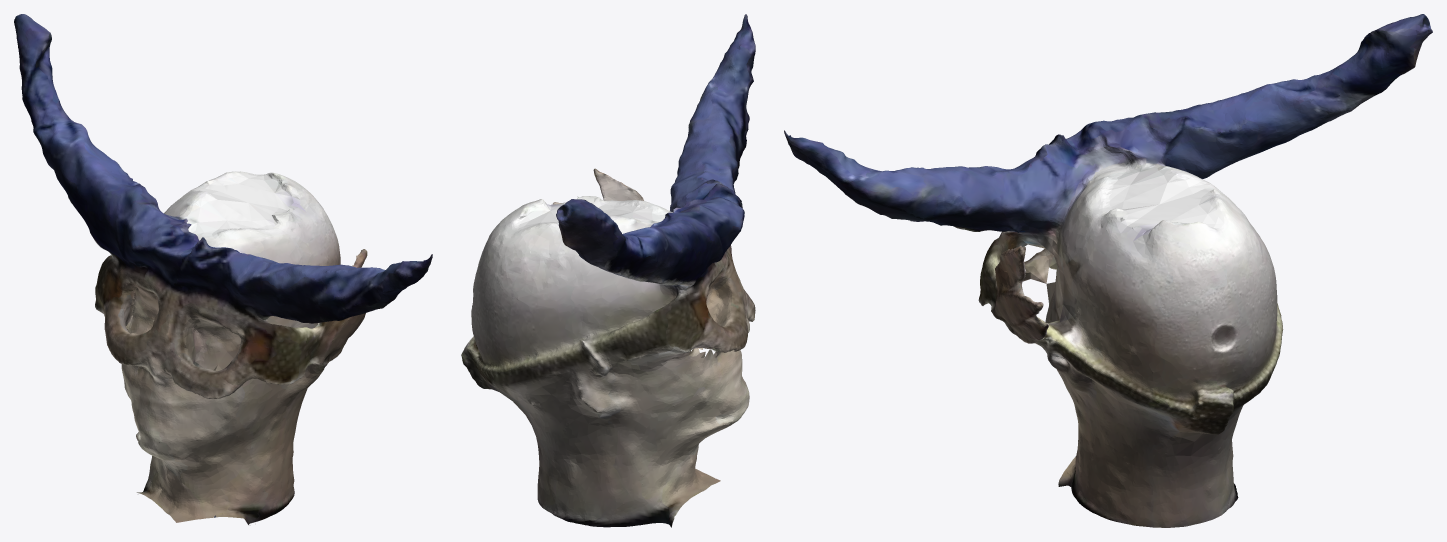
The model's file is Seung_Jeon.glb.
3 renders of one model, left to right at view 1: azimuth 30°, elevation 25°; view 2: azimuth 150°, elevation 25°; view 3: azimuth 270°, elevation 25°, orthographic. The views are drawn at different scales.
Visible parts, largest first — view 1: mesh.005; view 2: mesh.005; view 3: mesh.005.
Part boxes in pixels (x1,y1,x2,y2): mesh.005: (14, 14, 432, 524); mesh.005: (461, 14, 755, 527); mesh.005: (784, 14, 1432, 527).
Bounding box in the file's own units: 2.65 × 4.24 × 5.7.
Materials: 1 (1 with a texture image).
